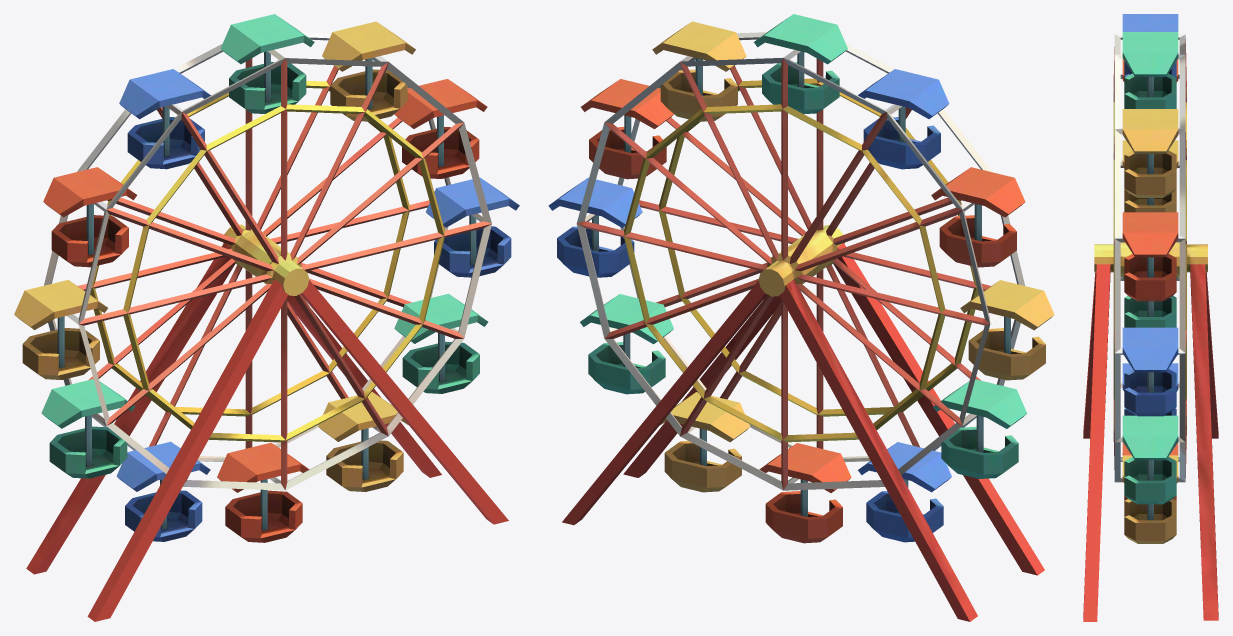
Rendered from ferris-wheel-poly.glb.
3 renders of one model, left to right at view 1: azimuth 30°, elevation 25°; view 2: azimuth 150°, elevation 25°; view 3: azimuth 270°, elevation 25°, orthographic. The views are drawn at different scales.
Visible parts, largest first — view 1: ferris_wheel; view 2: ferris_wheel; view 3: ferris_wheel.
Part boxes in pixels (left/top/right/bottom): ferris_wheel: left=14, top=14, right=519, bottom=621; ferris_wheel: left=548, top=14, right=1054, bottom=621; ferris_wheel: left=1083, top=14, right=1218, bottom=621.
Size of the model in its own units: 2.25 by 2.26 by 0.5711.
1 material, 1 textured.
